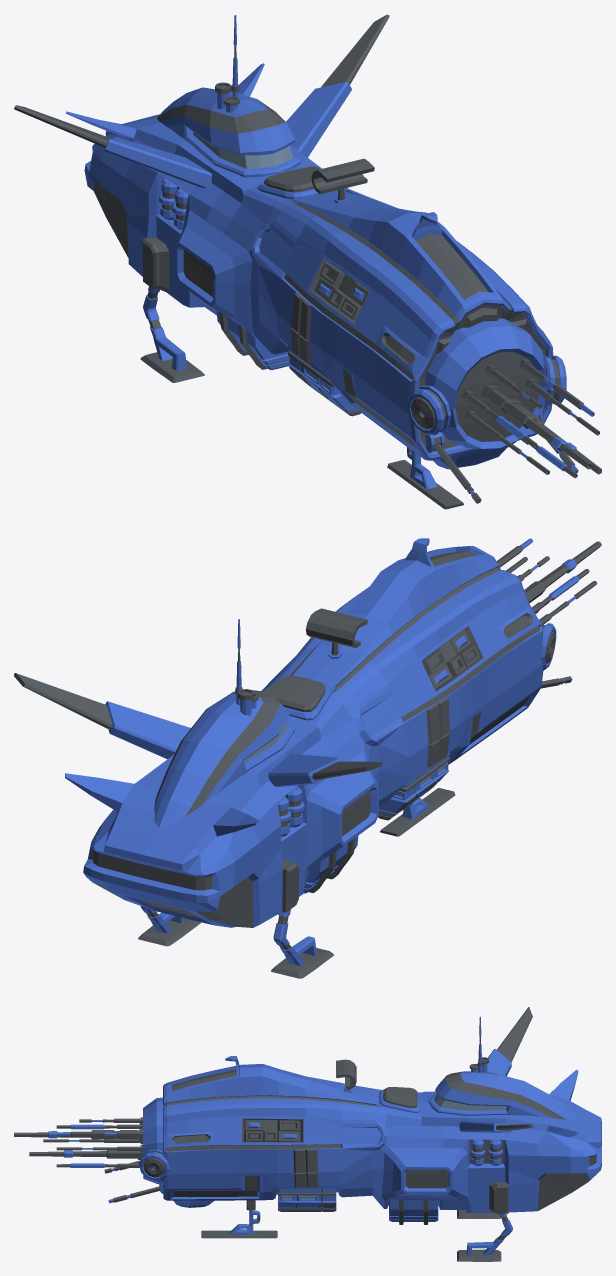
The model's file is Dropship_05_Blue.fbx.
The picture shows the model from 3 angles, top to bottom: view 1: azimuth 30°, elevation 25°; view 2: azimuth 150°, elevation 25°; view 3: azimuth 270°, elevation 25°; orthographic projection. The views are drawn at different scales.
Visible parts, largest first — view 1: Dropship_05_Blue; view 2: Dropship_05_Blue; view 3: Dropship_05_Blue.
Part boxes in pixels (x1,y1,x2,y2): Dropship_05_Blue: (14,14,601,509); Dropship_05_Blue: (14,538,601,978); Dropship_05_Blue: (14,1007,601,1261).
Bounding box in the file's own units: 1028 × 878 × 2156.
Materials: 3 (3 with a texture image).
